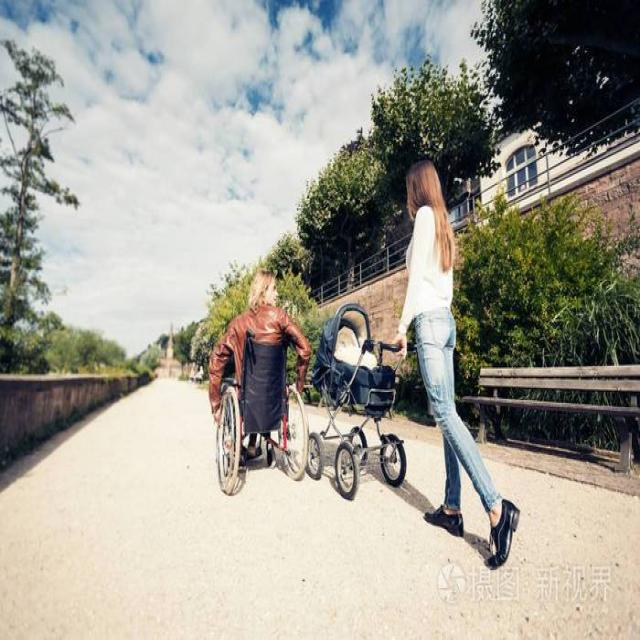wheelchairs: (210, 326, 313, 501)
